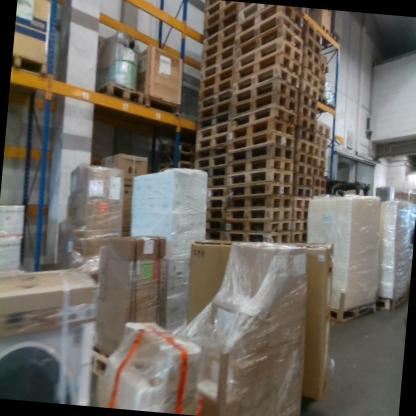pallet: (231, 32, 304, 79), (233, 48, 302, 92), (231, 60, 302, 101), (234, 8, 305, 48), (13, 42, 55, 106), (229, 73, 301, 110), (226, 114, 299, 149), (233, 23, 303, 59), (225, 126, 296, 160), (229, 100, 300, 134), (228, 87, 299, 121), (226, 141, 295, 171), (225, 165, 293, 195), (226, 152, 294, 182), (226, 177, 291, 208), (326, 295, 376, 331), (224, 202, 293, 228), (225, 227, 293, 252), (98, 80, 148, 113), (237, 3, 304, 27), (372, 280, 407, 323), (225, 214, 292, 235), (200, 39, 235, 74), (142, 96, 189, 121), (197, 74, 232, 106), (196, 85, 231, 117), (204, 11, 239, 42), (198, 63, 233, 94), (225, 193, 291, 209), (198, 97, 231, 127), (200, 55, 234, 84), (205, 0, 238, 28), (203, 23, 236, 51), (202, 32, 235, 60), (198, 108, 232, 135), (85, 343, 111, 377), (196, 119, 230, 144), (195, 140, 229, 165), (196, 131, 230, 154), (192, 151, 225, 174), (154, 151, 195, 169), (203, 1, 237, 21), (299, 68, 322, 91), (296, 91, 322, 111), (301, 35, 325, 56), (301, 45, 323, 67), (205, 162, 228, 182), (157, 143, 194, 155), (325, 26, 343, 50), (302, 24, 324, 43), (205, 175, 226, 193), (300, 58, 322, 75), (204, 185, 226, 202), (296, 139, 316, 157), (296, 117, 318, 133), (203, 208, 224, 224), (297, 108, 317, 124), (296, 129, 317, 144), (293, 175, 313, 190), (293, 163, 314, 177), (316, 23, 332, 41), (291, 188, 313, 201), (203, 231, 224, 244), (206, 219, 224, 234), (301, 83, 320, 97), (294, 153, 316, 165), (319, 56, 332, 76), (205, 198, 225, 211), (292, 220, 309, 235), (293, 199, 311, 212), (317, 125, 333, 139), (313, 146, 329, 160), (312, 187, 328, 201), (315, 135, 329, 150), (292, 210, 309, 221), (313, 178, 329, 189), (206, 0, 219, 12), (313, 158, 327, 169), (291, 234, 307, 243), (312, 170, 328, 179)
